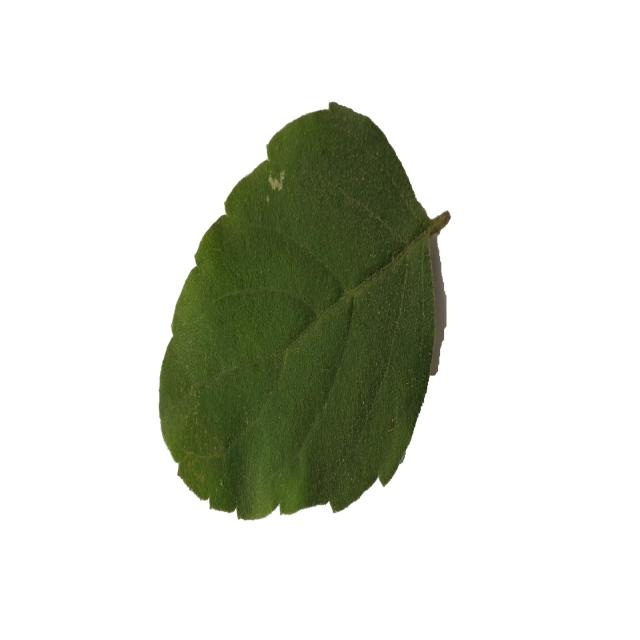tulsi: (155, 97, 452, 524)
